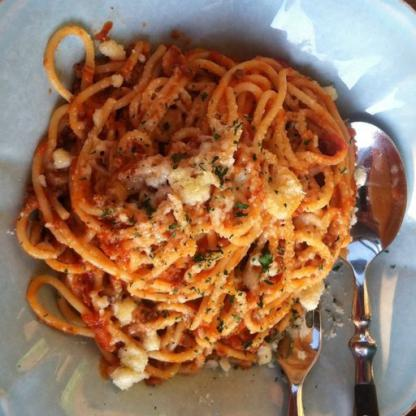pasta: (24, 23, 334, 389)
